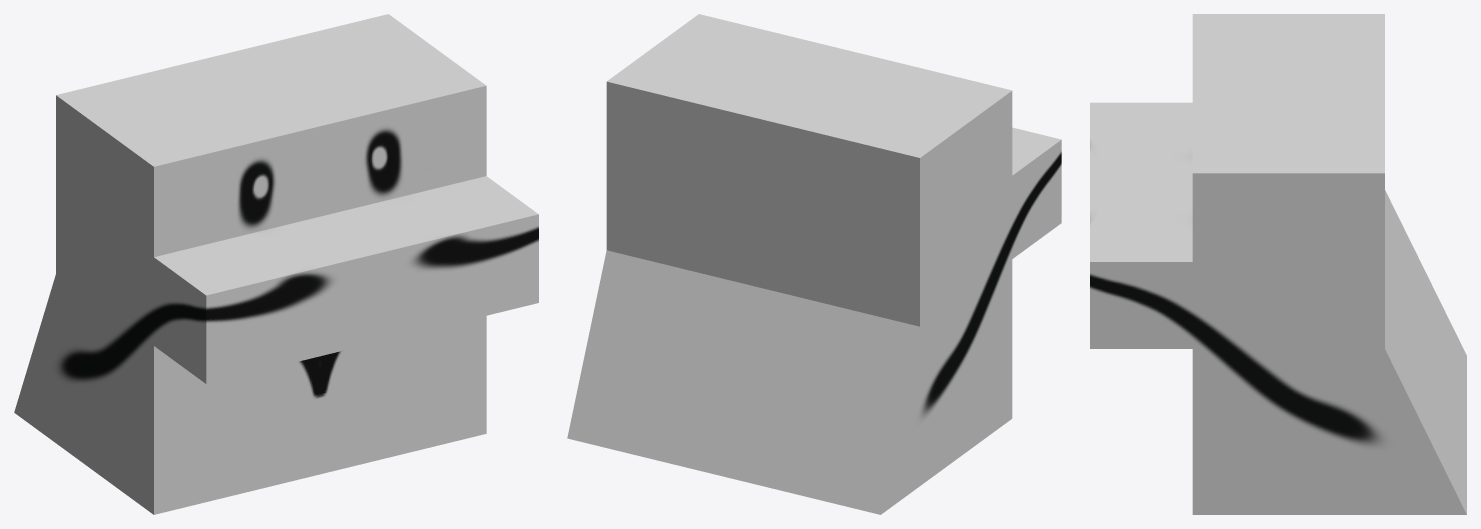
The model's file is player.obj.
The picture shows the model from 3 angles, left to right: view 1: azimuth 30°, elevation 25°; view 2: azimuth 150°, elevation 25°; view 3: azimuth 270°, elevation 25°; orthographic projection. The views are drawn at different scales.
Parts seen in each view (by area): view 1: Cube; view 2: Cube; view 3: Cube.
Boxes of the visible parts, <box> form: Cube: <box>14,14,538,514</box>; Cube: <box>567,14,1061,514</box>; Cube: <box>1090,14,1466,514</box>.
Bounding box in the file's own units: 2 × 2 × 2.
Materials: 1 (1 with a texture image).
